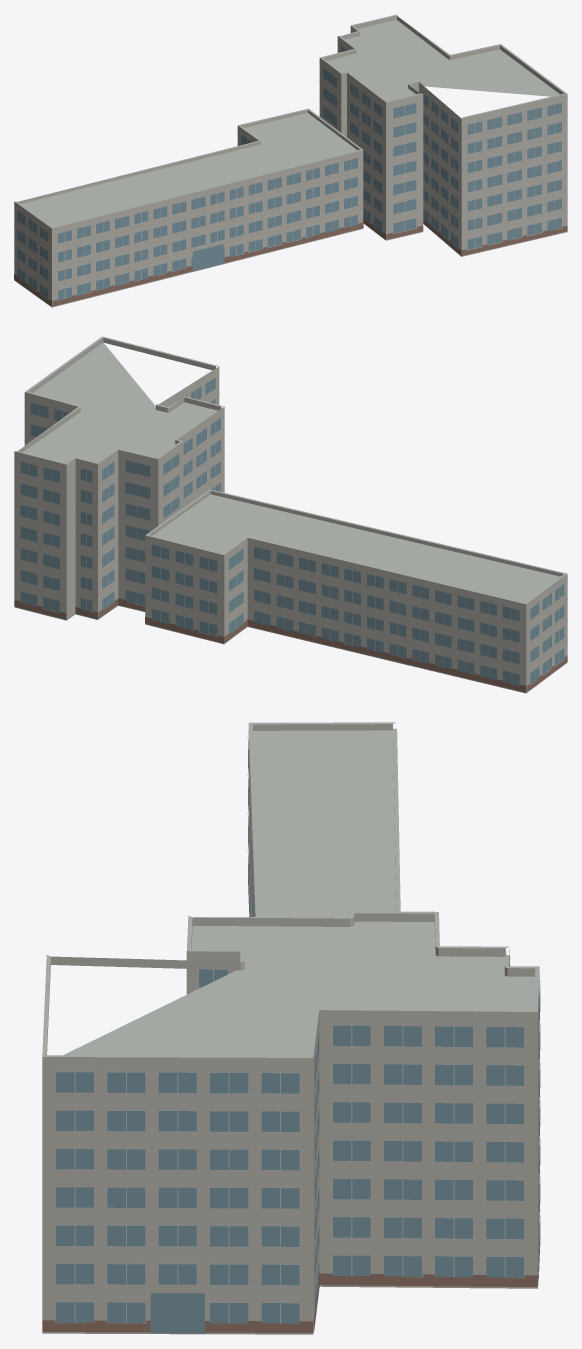
The model's file is public-037100eb-6627-41b1-bdc2-1b1195a77687.glb.
3 views of the same model, one above another, from view 1: azimuth 30°, elevation 25°; view 2: azimuth 150°, elevation 25°; view 3: azimuth 270°, elevation 25° (orthographic). The views are drawn at different scales.
Parts seen in each view (by area): view 1: public-037100eb-6627-41b1-bdc2-1b1195a77687; view 2: public-037100eb-6627-41b1-bdc2-1b1195a77687; view 3: public-037100eb-6627-41b1-bdc2-1b1195a77687.
Boxes of the visible parts, x1,y1,x2,y2 form: public-037100eb-6627-41b1-bdc2-1b1195a77687: (14,14,567,307); public-037100eb-6627-41b1-bdc2-1b1195a77687: (14,336,567,693); public-037100eb-6627-41b1-bdc2-1b1195a77687: (42,722,540,1334).
Size of the model in its own units: 76.38 by 21.35 by 34.93.
